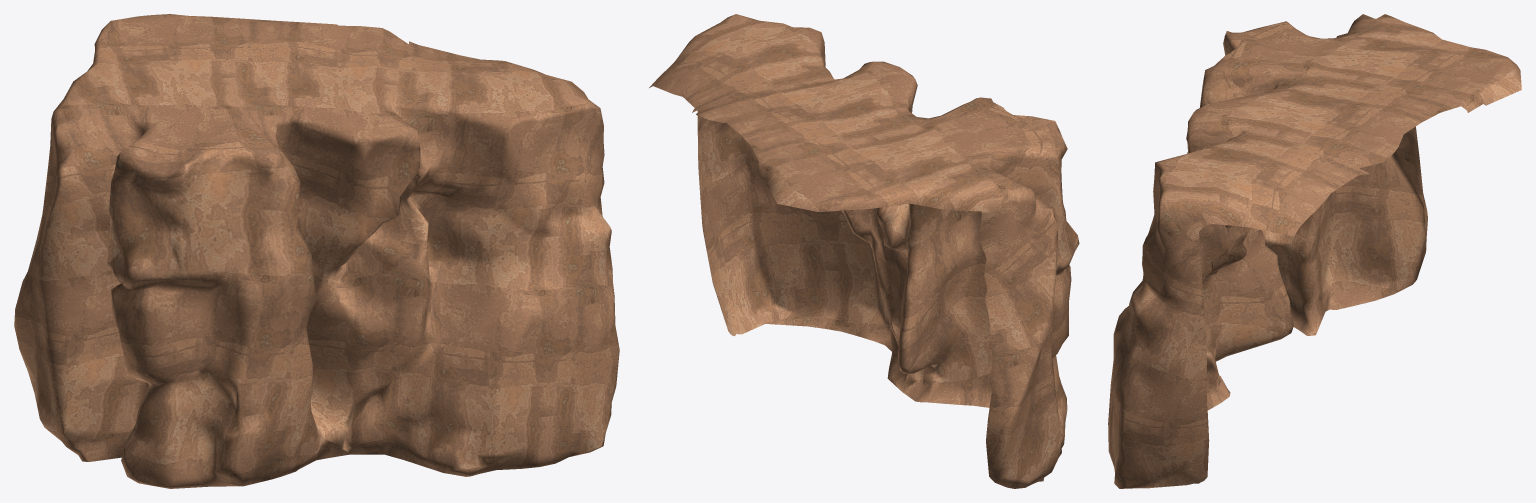
The model's file is Ob_RockCliff28.fbx.
The picture shows the model from 3 angles, left to right: view 1: azimuth 30°, elevation 25°; view 2: azimuth 150°, elevation 25°; view 3: azimuth 270°, elevation 25°; orthographic projection. The views are drawn at different scales.
Parts seen in each view (by area): view 1: Ob_RockCliff28; view 2: Ob_RockCliff28; view 3: Ob_RockCliff28.
Boxes of the visible parts, x1=… form: Ob_RockCliff28: x1=14, y1=14, x2=619, y2=488; Ob_RockCliff28: x1=649, y1=14, x2=1079, y2=488; Ob_RockCliff28: x1=1108, y1=14, x2=1521, y2=488.
Bounding box in the file's own units: 31581 × 22376 × 26575.
